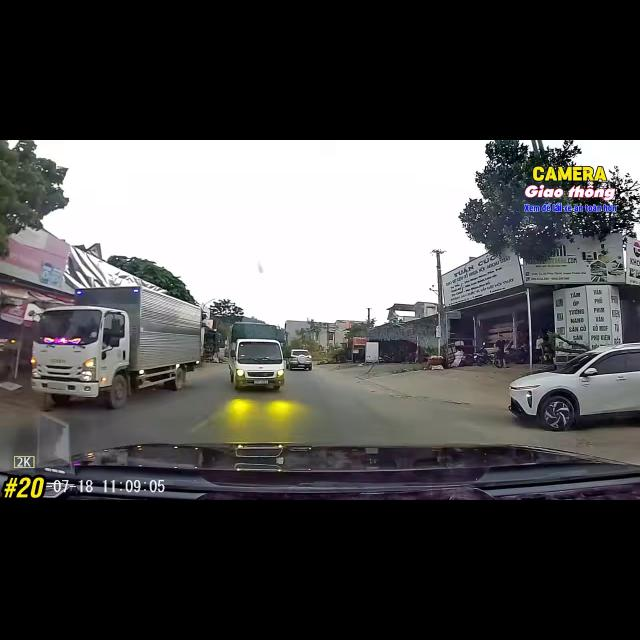car: (508, 343, 640, 431), (287, 349, 312, 370)
truck: (31, 287, 201, 408), (229, 322, 284, 390)
